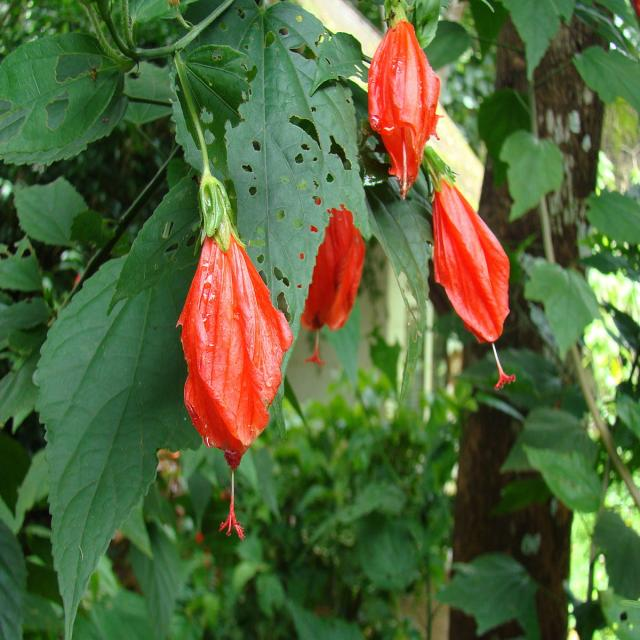Flower: (176, 177, 290, 538), (422, 144, 517, 394), (367, 1, 442, 209)
